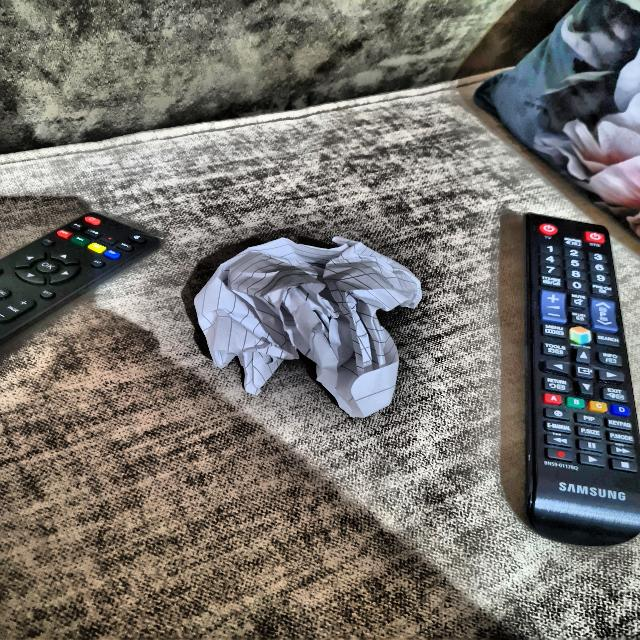Paper: (193, 230, 435, 418)
